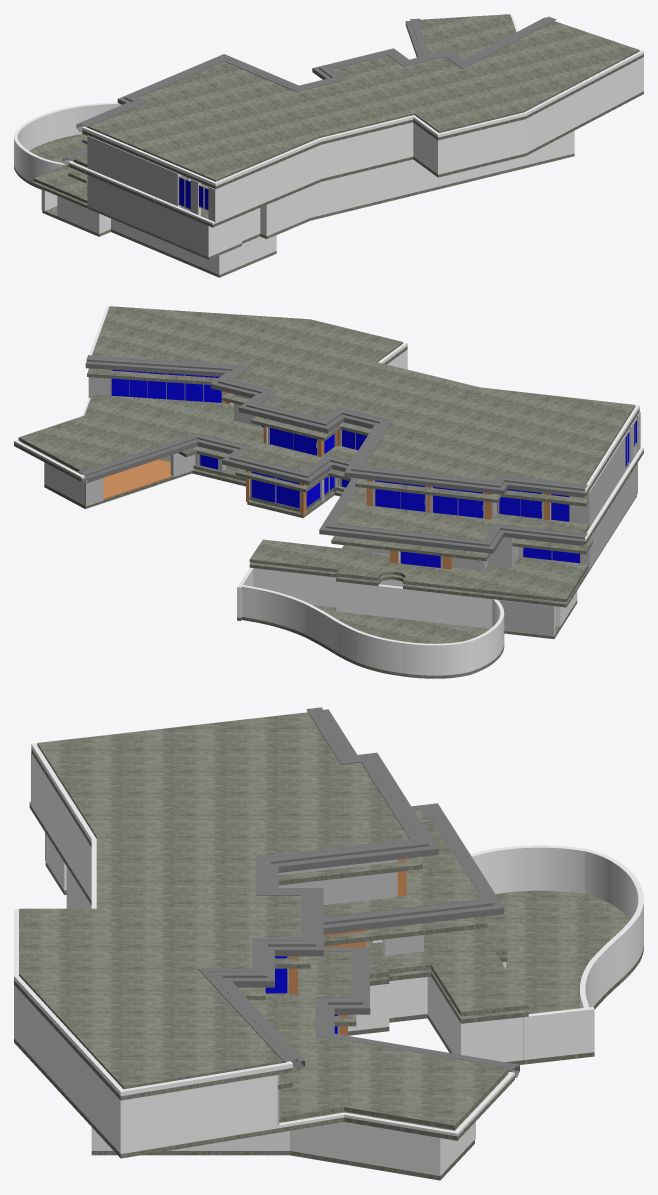
3 renders of one model, top to bottom at view 1: azimuth 30°, elevation 25°; view 2: azimuth 150°, elevation 25°; view 3: azimuth 270°, elevation 25°, orthographic. The views are drawn at different scales.
Visible parts, largest first — view 1: Перекрытие [1636404], Базовая стена [1303326], Базовая стена [1340738], Базовая стена [1921770], Базовая стена [1339755], Базовая стена [1339886], Базовая стена [1340426], Перекрытие [1635025], Базовая стена [1922178], Перекрытие [1366628], Перекрытие [1372569], Перекрытие [1396571] (+29 smaller); view 2: Перекрытие [1636404], Перекрытие [1635025], Перекрытие [1633641], Базовая стена [1332821], Перекрытие [1649514], Перекрытие [1419072], Перекрытие [1396571], Перекрытие [1651340], ASS-77_Тип_5 [1473403], Базовая стена [1418942], Семейство2 [1614601], Семейство2 [1621019] (+33 smaller); view 3: Перекрытие [1636404], Перекрытие [1635025], Перекрытие [1419072], Базовая стена [1341743], Перекрытие [1633641], Базовая стена [1340738], Базовая стена [1405022], Перекрытие [1396571], Базовая стена [1418400], Перекрытие [1366628], Базовая стена [1339755], Семейство2 [1624215] (+33 smaller).
Part boxes in pixels (box(x1,y1,x2,y2)): Перекрытие [1636404]: box(87, 21, 639, 181); Базовая стена [1303326]: box(310, 130, 574, 217); Базовая стена [1340738]: box(531, 57, 643, 150); Базовая стена [1921770]: box(88, 175, 208, 257); Базовая стена [1339755]: box(218, 145, 321, 222); Базовая стена [1339886]: box(321, 122, 413, 178); Базовая стена [1340426]: box(440, 116, 531, 173); Перекрытие [1635025]: box(73, 14, 516, 167); Базовая стена [1922178]: box(88, 136, 178, 206); Перекрытие [1366628]: box(68, 91, 643, 227); Перекрытие [1372569]: box(82, 54, 643, 189); Перекрытие [1396571]: box(33, 153, 574, 259); Перекрытие [1636404]: box(92, 306, 635, 484); Перекрытие [1635025]: box(18, 394, 589, 540); Перекрытие [1633641]: box(193, 465, 588, 602); Базовая стена [1332821]: box(339, 582, 555, 635); Перекрытие [1649514]: box(87, 369, 588, 506); Перекрытие [1419072]: box(237, 605, 504, 678); Перекрытие [1396571]: box(44, 455, 636, 607); Перекрытие [1651340]: box(178, 446, 592, 561); ASS-77_Тип_5 [1473403]: box(109, 369, 223, 402); Базовая стена [1418942]: box(253, 568, 336, 607); Семейство2 [1614601]: box(319, 524, 493, 553); Семейство2 [1621019]: box(344, 465, 503, 494); Перекрытие [1636404]: box(19, 712, 409, 1089); Перекрытие [1635025]: box(252, 810, 508, 1129); Перекрытие [1419072]: box(483, 890, 643, 1064); Базовая стена [1341743]: box(125, 1075, 277, 1153); Перекрытие [1633641]: box(338, 925, 528, 1016); Базовая стена [1340738]: box(19, 990, 125, 1153); Базовая стена [1405022]: box(290, 1122, 441, 1175); Перекрытие [1396571]: box(45, 862, 528, 1180); Базовая стена [1418400]: box(523, 1007, 594, 1059); Перекрытие [1366628]: box(14, 804, 514, 1158); Базовая стена [1339755]: box(32, 755, 91, 900); Семейство2 [1624215]: box(256, 839, 437, 872).
Bounding box in the file's own units: 57.31 × 11.89 × 38.93.
